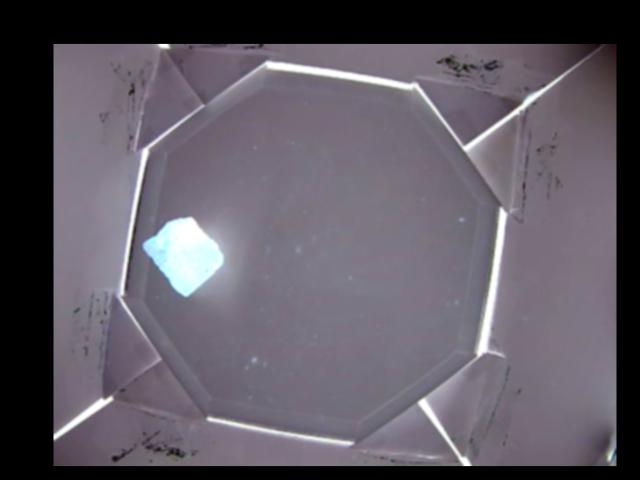Brisk: (141, 217, 221, 295)
